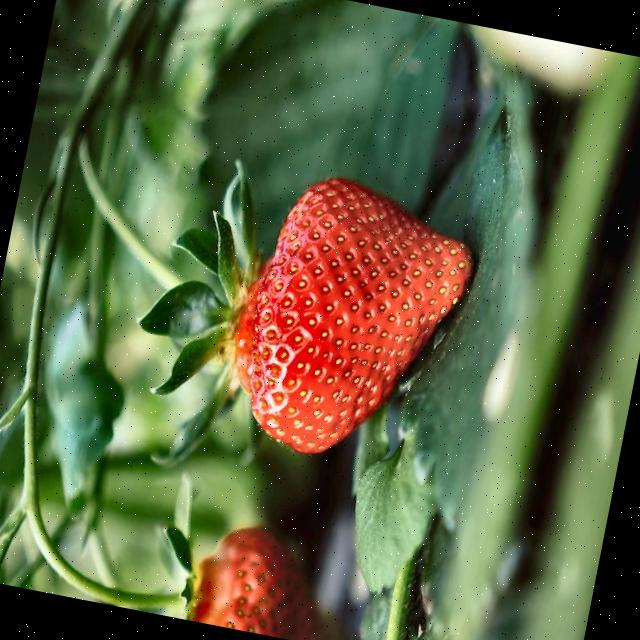strawberry: (236, 177, 473, 453), (190, 527, 318, 640)
